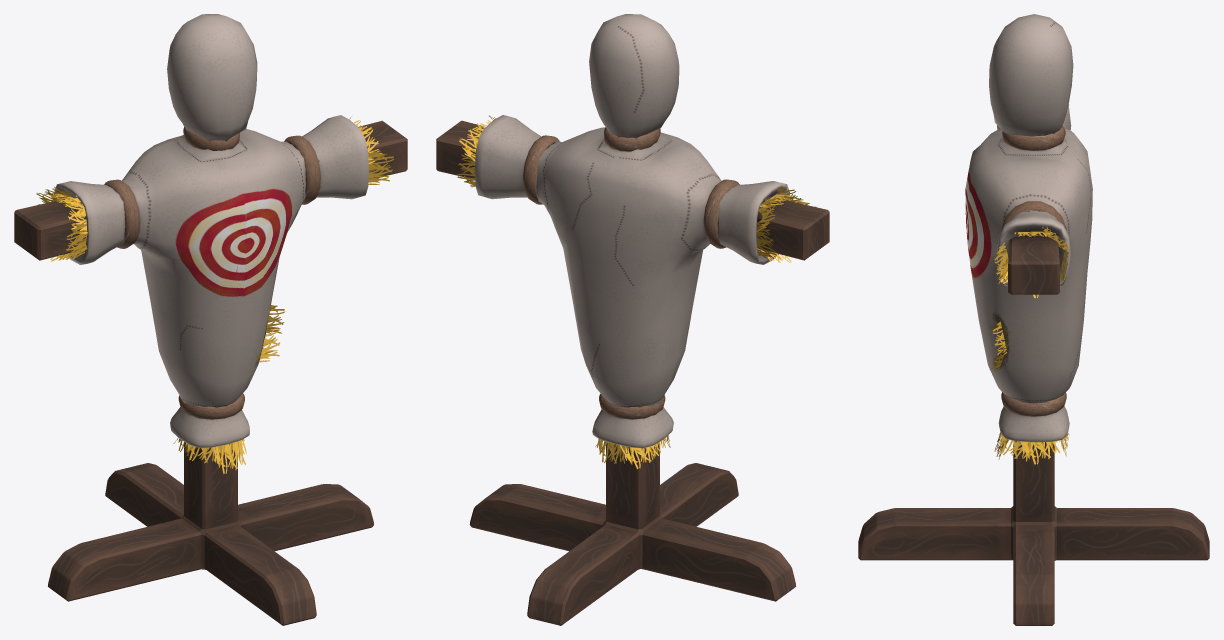
Rendered from dummy.fbx.
The picture shows the model from 3 angles, left to right: view 1: azimuth 30°, elevation 25°; view 2: azimuth 150°, elevation 25°; view 3: azimuth 270°, elevation 25°; orthographic projection.
Parts seen in each view (by area): view 1: pTorus6, pPlane3 (×2); view 2: pTorus6; view 3: pTorus6.
Part boxes in pixels (x1=…): pTorus6: x1=14, y1=14, x2=407, y2=625; pPlane3 (×2): x1=213, y1=151, x2=393, y2=473; pTorus6: x1=436, y1=14, x2=829, y2=625; pTorus6: x1=858, y1=14, x2=1209, y2=625.
Size of the model in its own units: 10.3 by 14.36 by 8.57.
